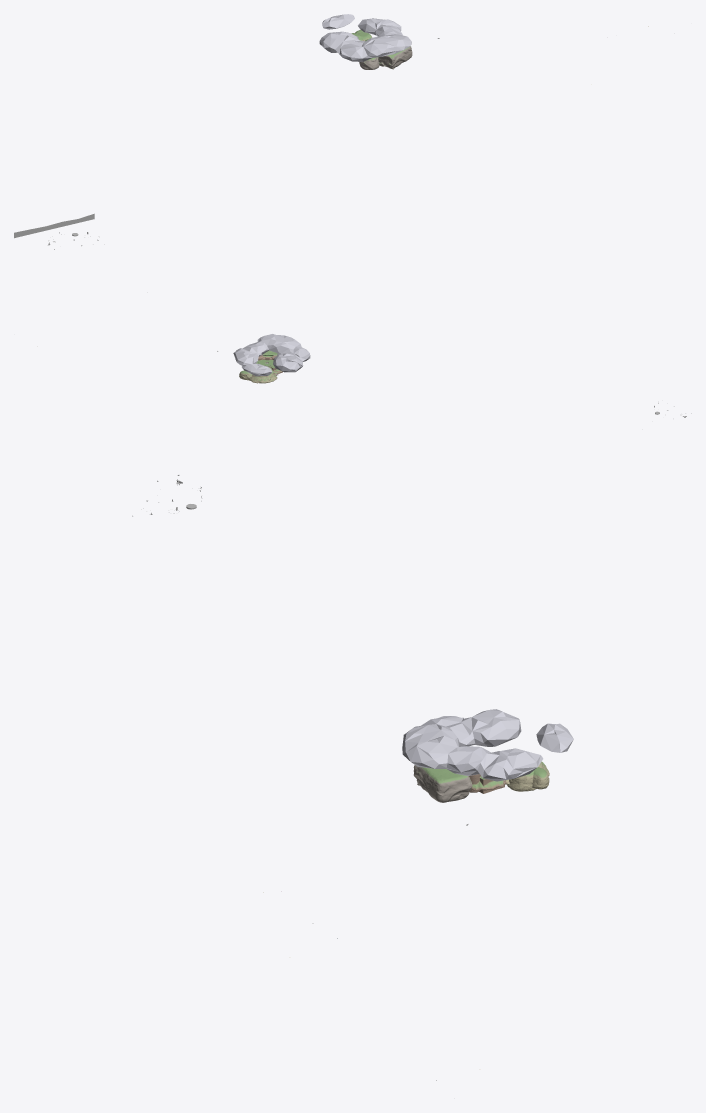
File: BstBaked.glb
3 views of the same model, one above another, from view 1: azimuth 30°, elevation 25°; view 2: azimuth 150°, elevation 25°; view 3: azimuth 270°, elevation 25° (orthographic). The views are drawn at different scales.
Parts seen in each view (by area): view 1: BstBaked_cloud, BstBaked_terrain, BstBaked_ScrollingFog_01; view 2: BstBaked_cloud, BstBaked_terrain; view 3: BstBaked_cloud, BstBaked_terrain.
Part boxes in pixels (x1,y1,x2,y2): BstBaked_cloud: (319, 14, 411, 61); BstBaked_terrain: (351, 29, 412, 69); BstBaked_ScrollingFog_01: (14, 213, 94, 238); BstBaked_cloud: (233, 334, 310, 376); BstBaked_terrain: (239, 350, 282, 383); BstBaked_cloud: (402, 709, 573, 781); BstBaked_terrain: (413, 761, 549, 802).
Bounding box in the file's own units: 2080 × 177 × 644.
